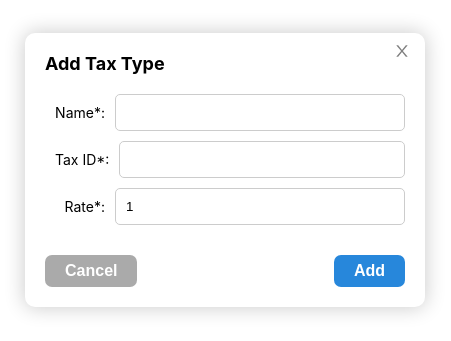
it: Tax Add/Edit › should validate input fields on Add - name
Type "a value" into the field named "input-field" next to "Tax ID*:".
click(262, 160); type("a value")  # box [119, 141, 405, 178]
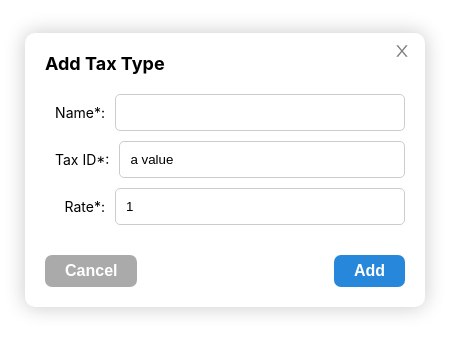
Click the button with aria-label "primary-button".
click(369, 271)  # box [334, 255, 405, 287]
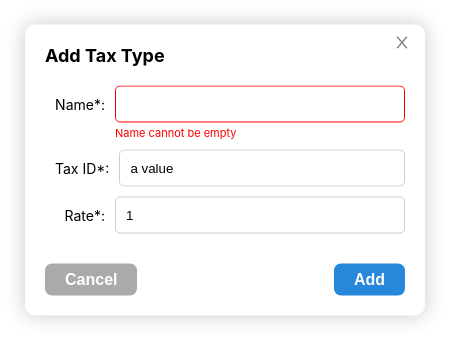
Now the text "Name cannot be empty" is shown, box [115, 126, 236, 140]
